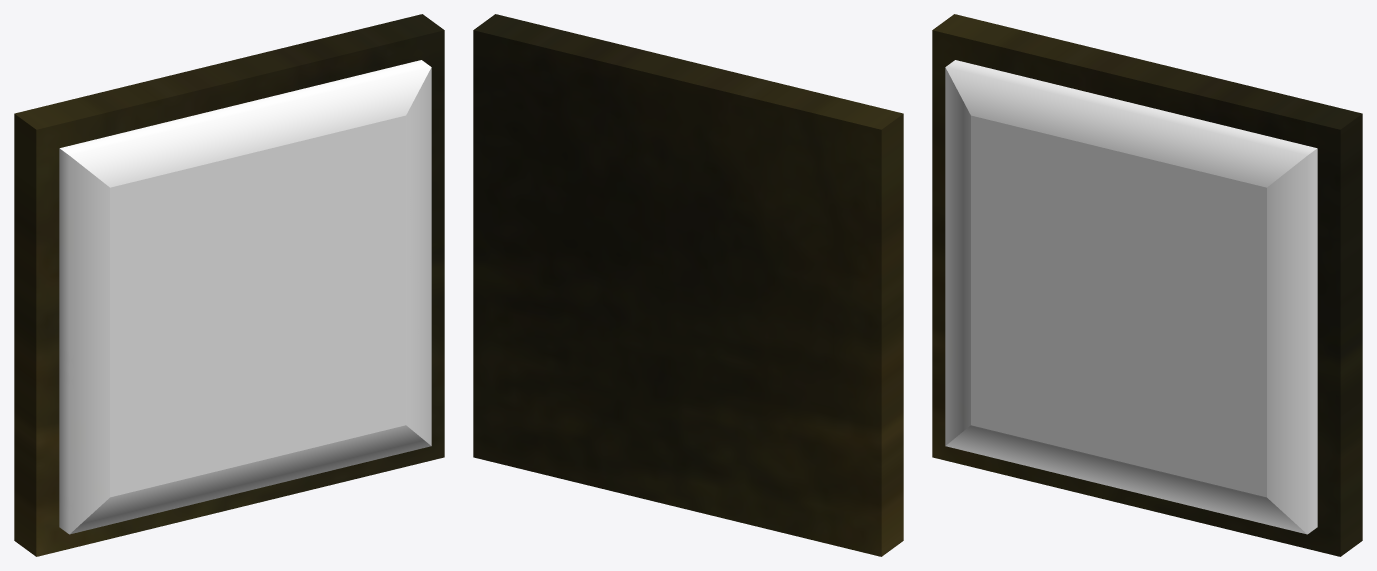
The model's file is LosetitasDinamicas.fbx.
The picture shows the model from 3 angles, left to right: view 1: azimuth 30°, elevation 25°; view 2: azimuth 150°, elevation 25°; view 3: azimuth 330°, elevation 25°; orthographic projection.
Parts seen in each view (by area): view 1: lit, base; view 2: base; view 3: lit, base.
Boxes of the visible parts, left/top/right/bottom form: lit: left=59, top=60, right=431, bottom=534; base: left=14, top=14, right=444, bottom=556; base: left=473, top=14, right=903, bottom=556; lit: left=945, top=60, right=1317, bottom=534; base: left=932, top=14, right=1362, bottom=556.
Bounding box in the file's own units: 0.4559 × 0.4559 × 0.0768.
1 material, 1 textured.
